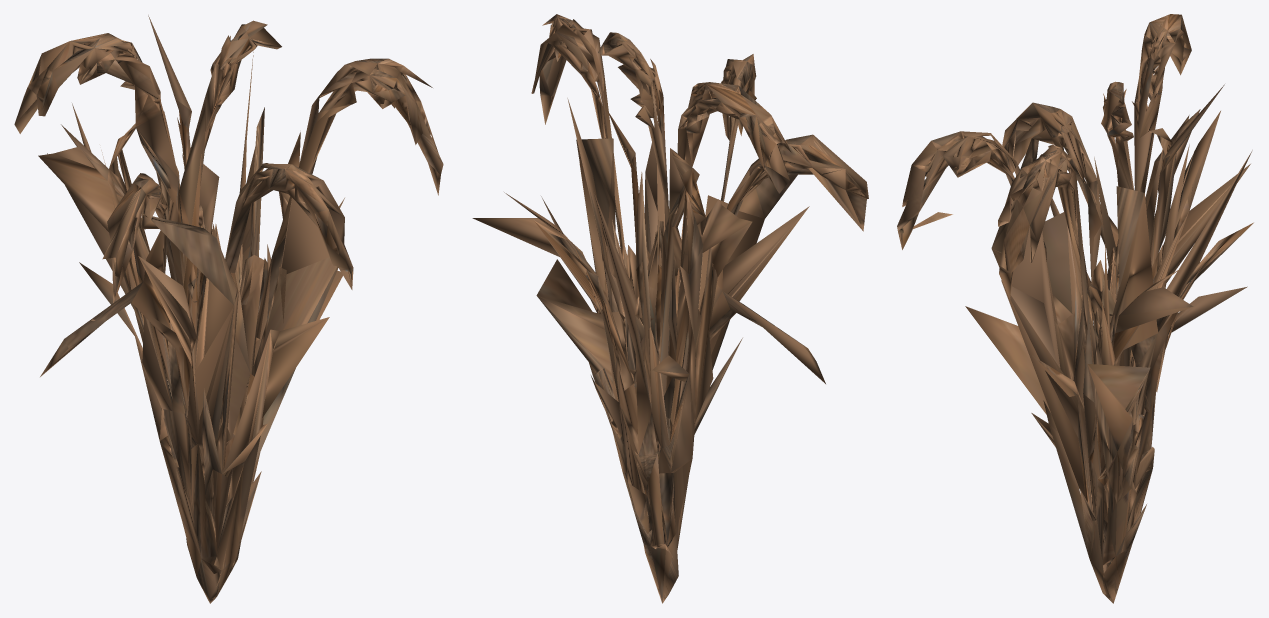
Rendered from SM_Rice_Plant_Meshy_LOD1.fbx.
3 renders of one model, left to right at view 1: azimuth 30°, elevation 25°; view 2: azimuth 150°, elevation 25°; view 3: azimuth 270°, elevation 25°, orthographic. The views are drawn at different scales.
Parts seen in each view (by area): view 1: Rice_Plant_Meshy_LOD1; view 2: Rice_Plant_Meshy_LOD1; view 3: Rice_Plant_Meshy_LOD1.
Boxes of the visible parts, x1=… form: Rice_Plant_Meshy_LOD1: x1=14, y1=15, x2=443, y2=603; Rice_Plant_Meshy_LOD1: x1=472, y1=14, x2=868, y2=603; Rice_Plant_Meshy_LOD1: x1=897, y1=14, x2=1253, y2=603.
Size of the model in its own units: 0.5718 by 0.9 by 0.538.
